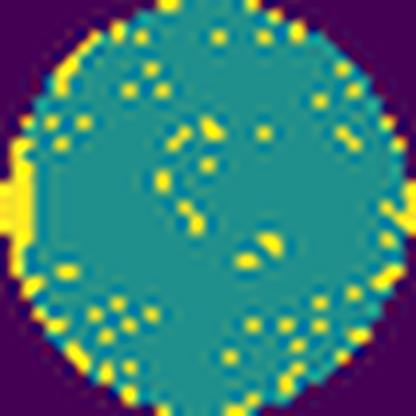Edge-Loc: (0, 127, 44, 278), (45, 29, 104, 95), (372, 181, 416, 240)
